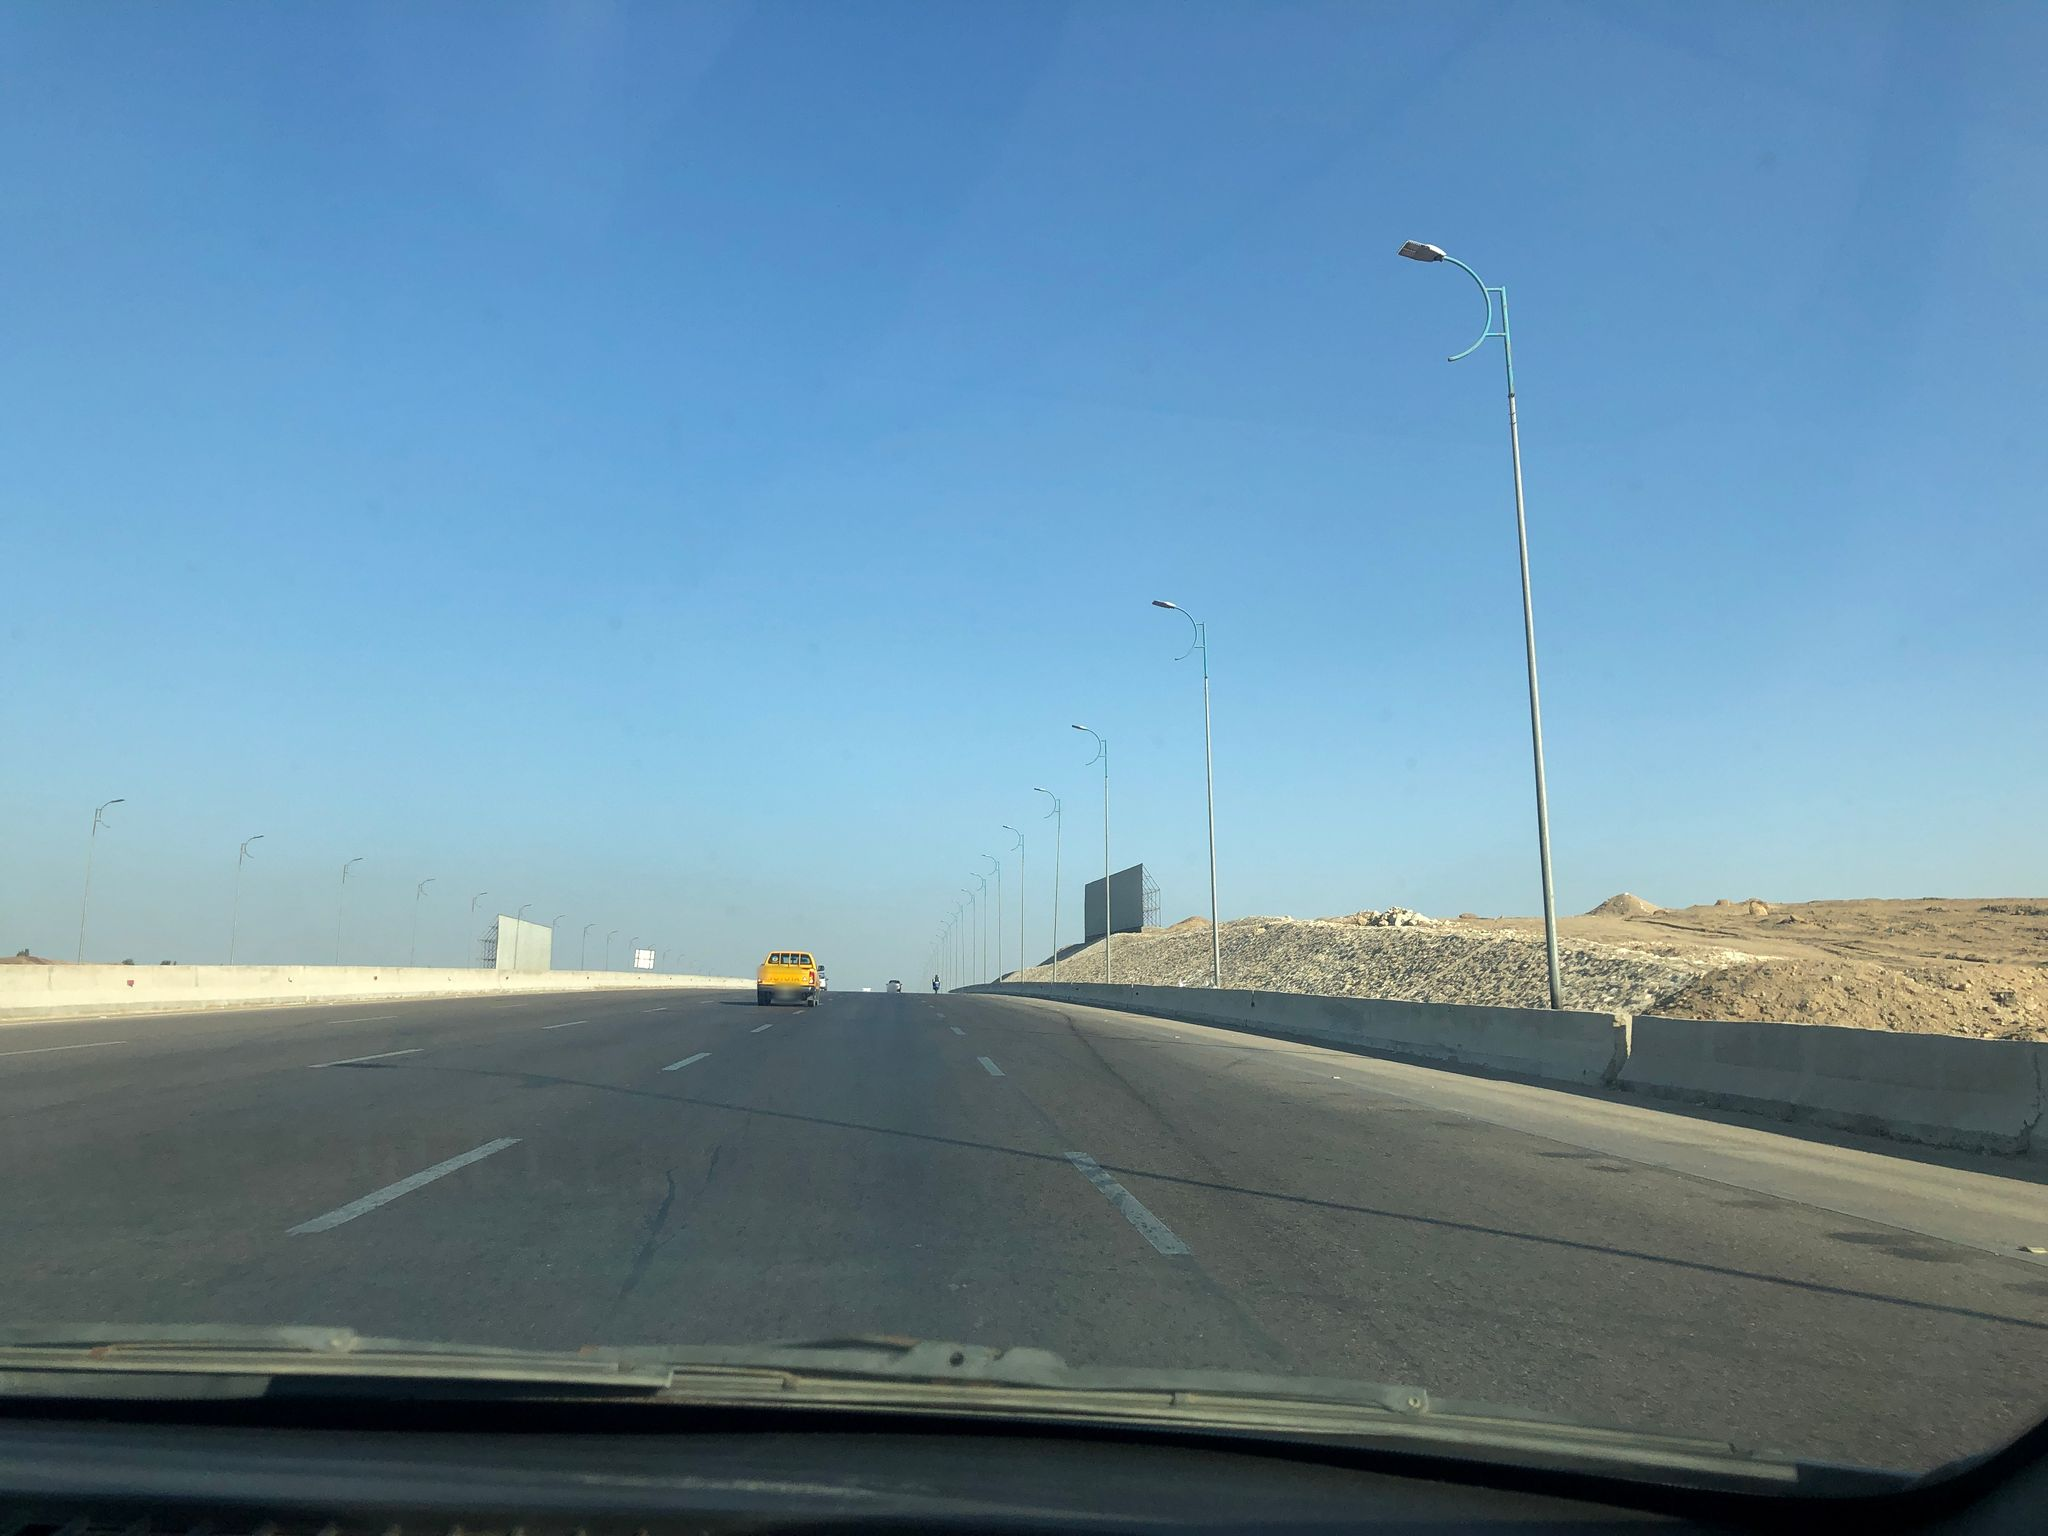car: (885, 979, 901, 992)
motorcycle: (930, 979, 940, 994)
truck: (756, 949, 826, 1008)
